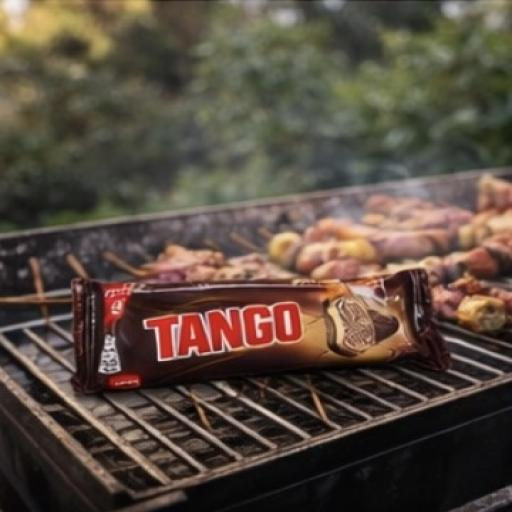tango: (50, 231, 467, 419)
